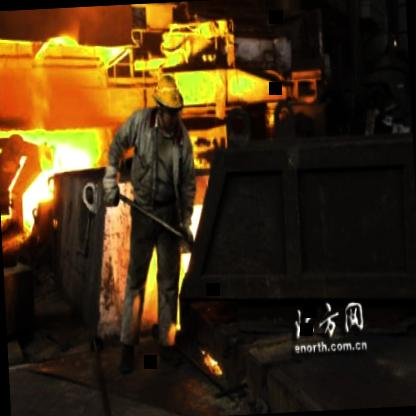helmet: (148, 72, 186, 132)
